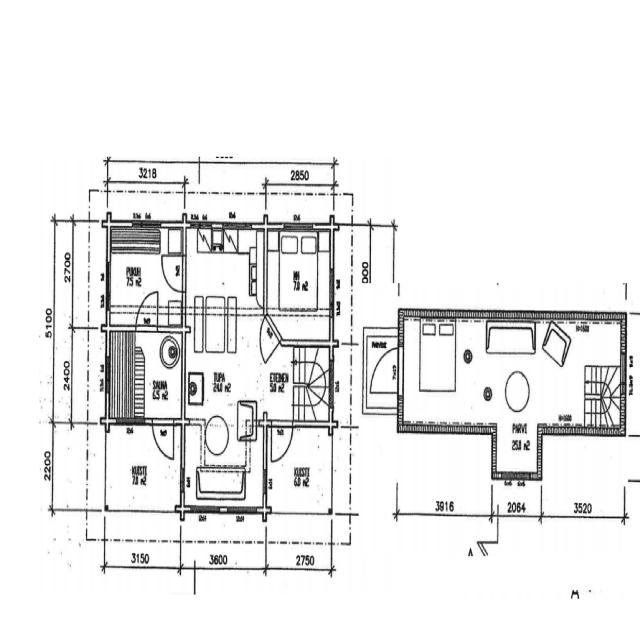door: (249, 312, 283, 369), (374, 348, 404, 390), (136, 288, 158, 332), (158, 255, 184, 292), (152, 418, 174, 461), (271, 420, 293, 463)
